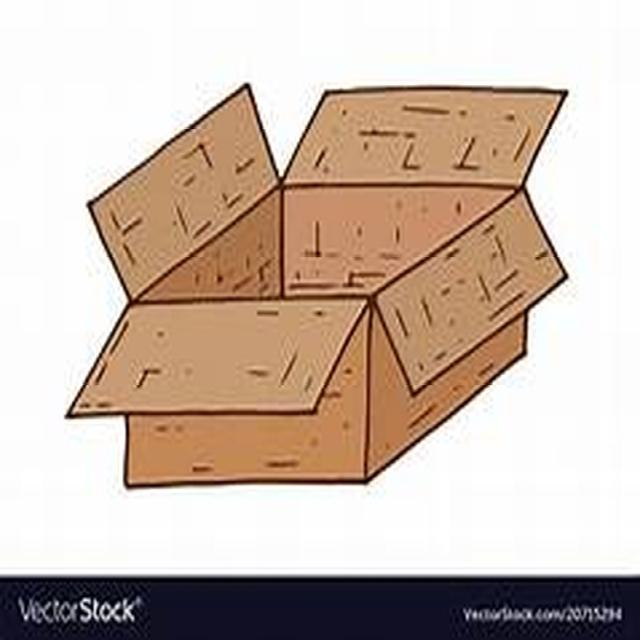box: (51, 76, 575, 510)
